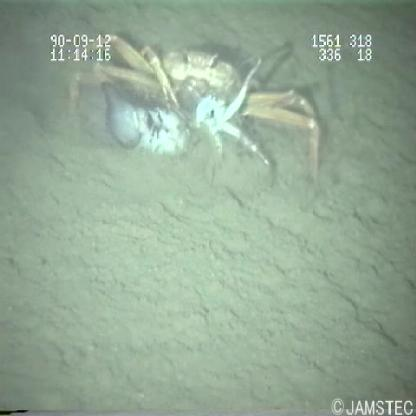Bio: (65, 29, 326, 193)
